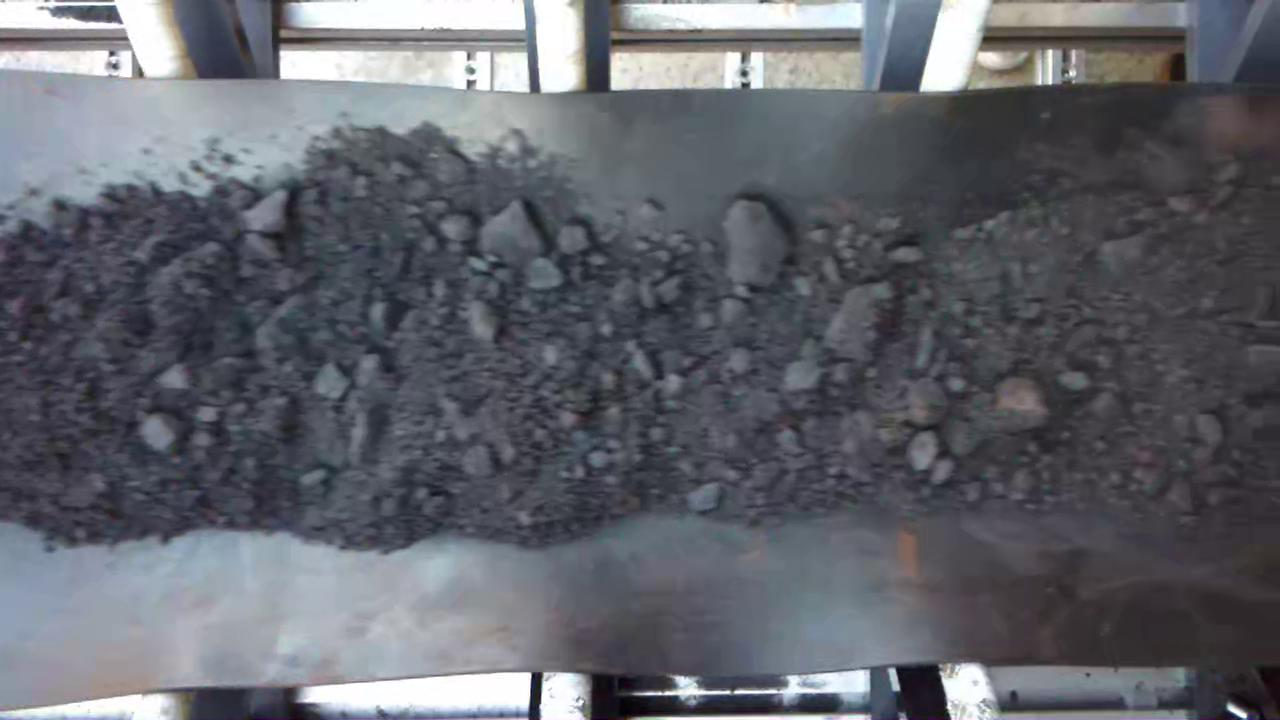conveyor: (9, 96, 1274, 652)
